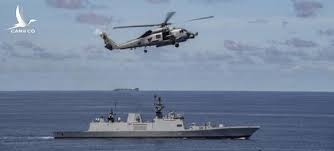maybay_muctieu: (92, 16, 204, 50)
tau_muctieu: (52, 101, 259, 138)
